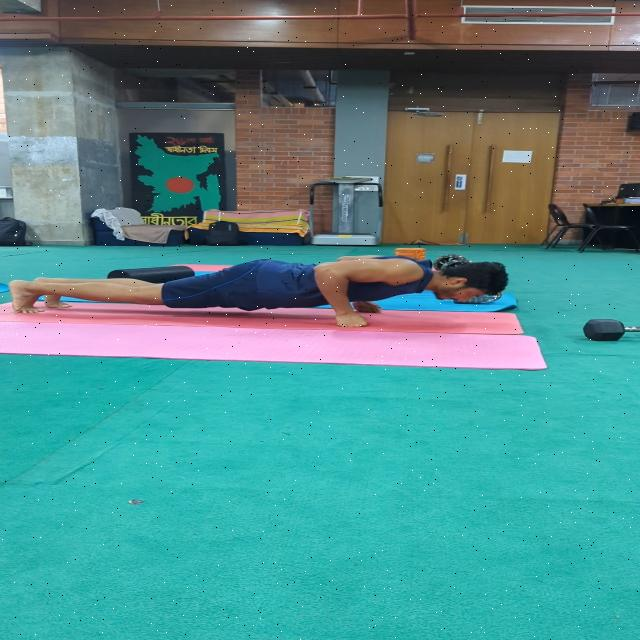Normal_PushUps: (6, 240, 515, 332)
